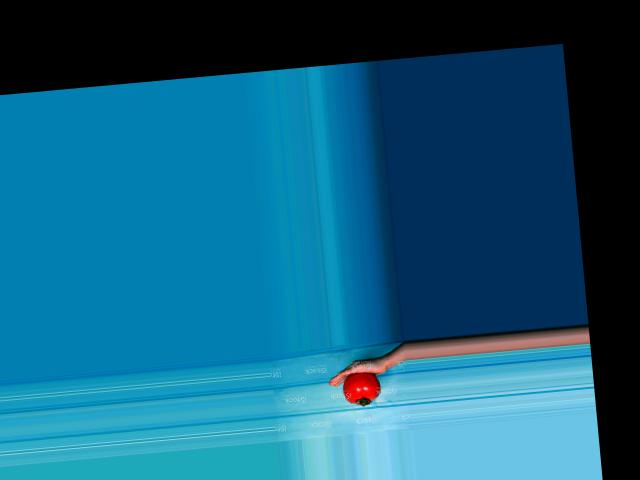tomato: (340, 370, 380, 406)
